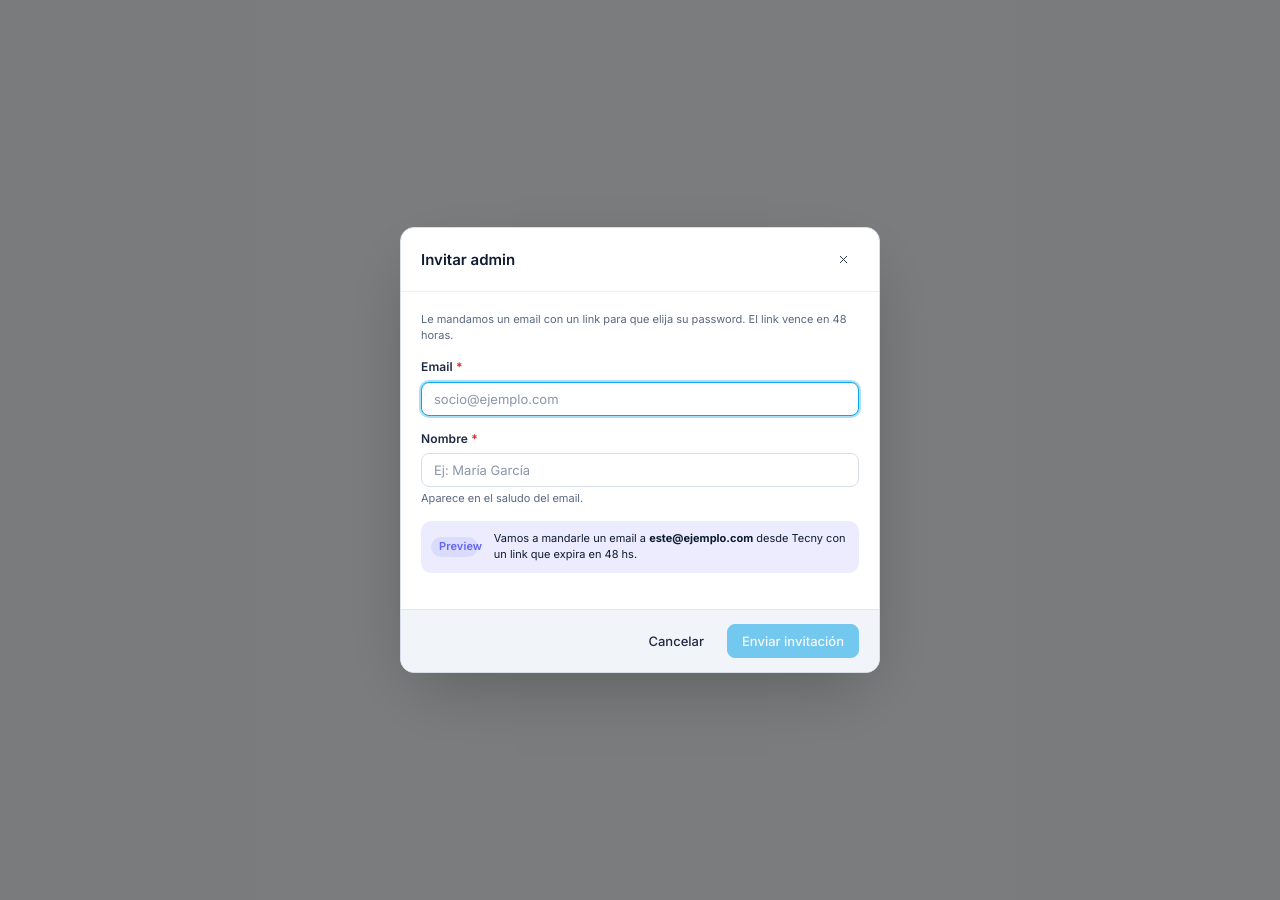
Test: InviteAdminModal › email inválido muestra hint de error
Type "no-es-email" into the field with placeholder "socio@ejemplo.com" at (640, 398), box [421,382,859,416]
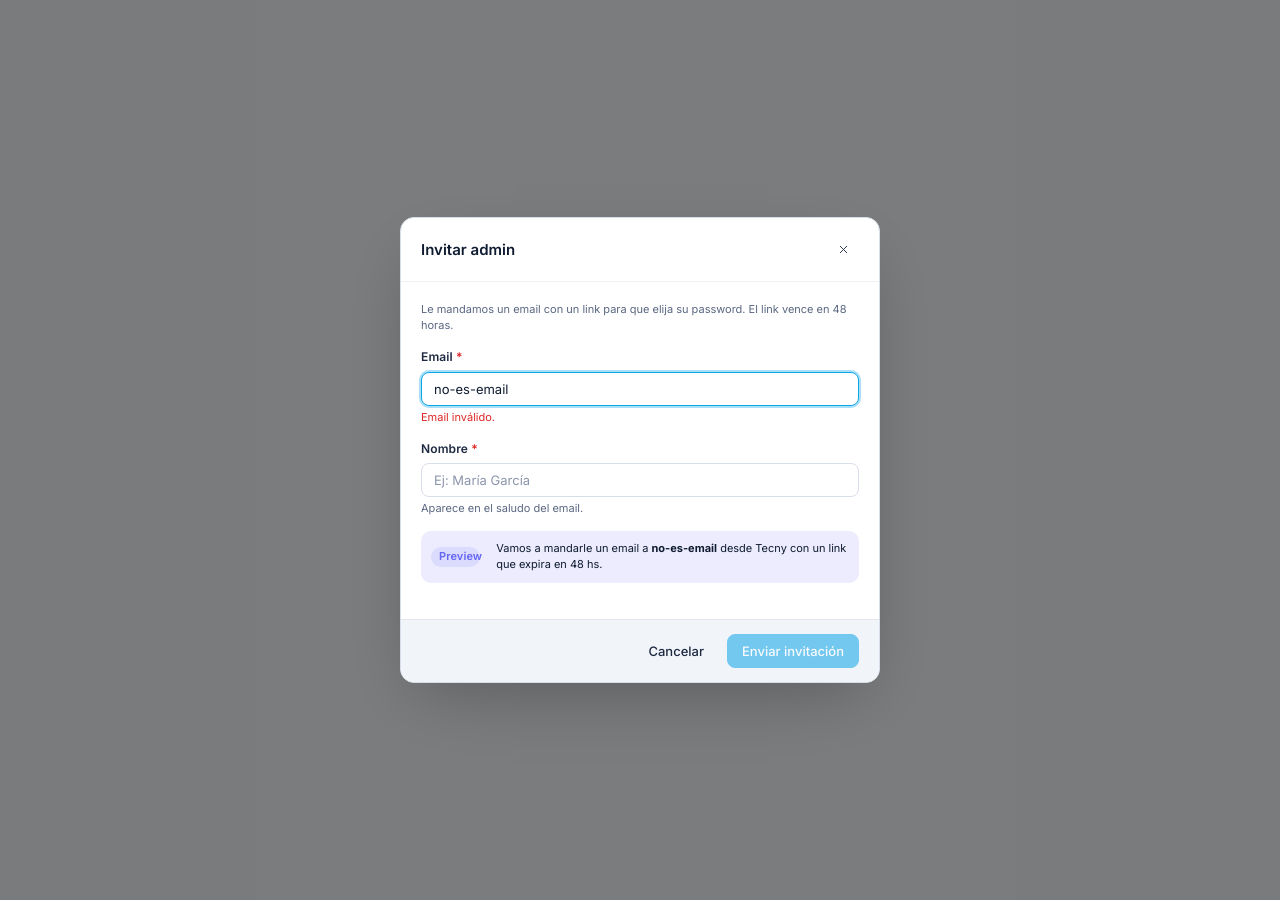
Check: the text "Email inválido." is shown, box [421,410,495,424]
